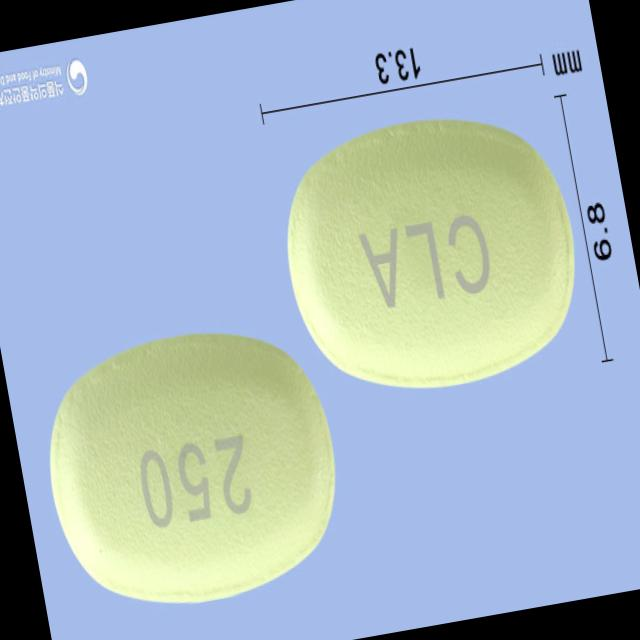C-Clarin: (268, 99, 594, 412), (30, 313, 356, 624)
